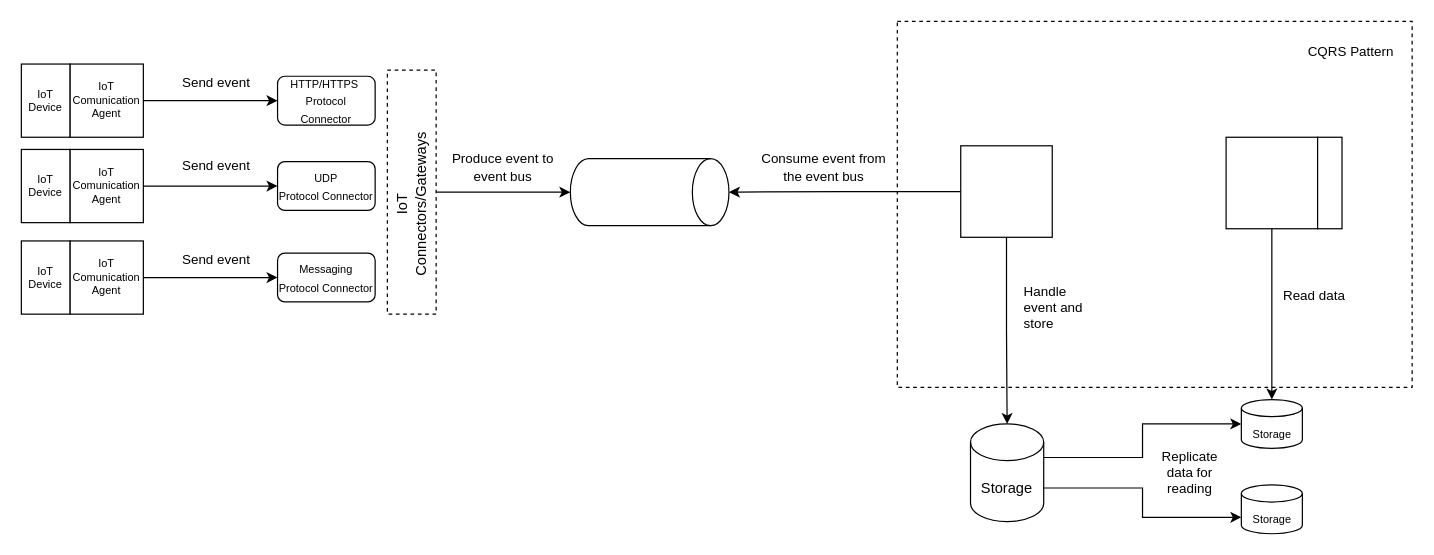
The diagram is 1434 pixels wide and 555 high, and some of its shapes have lost their labels. The shapes that lost their labels are listed below. From the top down, each one's centre as x and y in pixels, then its label:
point 649,191: Events Bus
point 1006,191: Command Service
point 1271,182: Read Service
point 1329,182: Security
